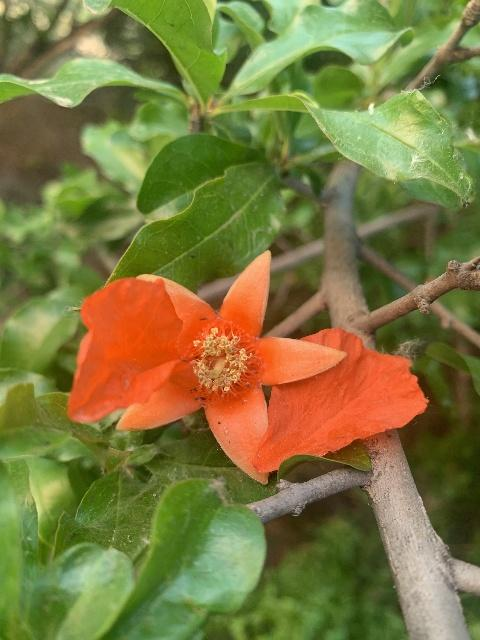flower: (66, 248, 426, 485)
